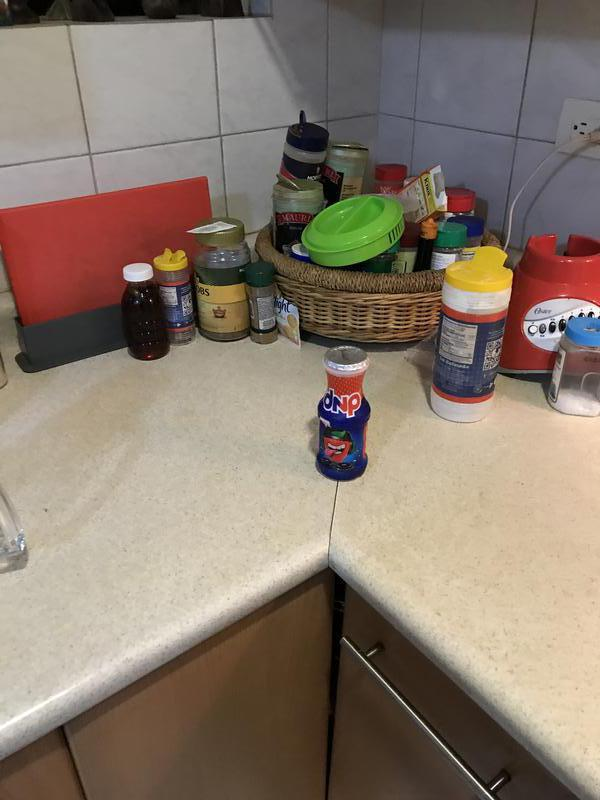danup: (317, 345, 370, 480)
